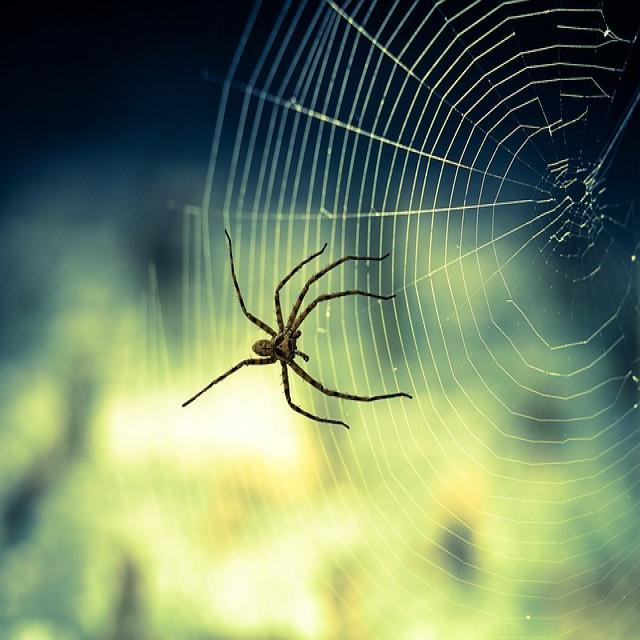spyder: (182, 230, 410, 426)
